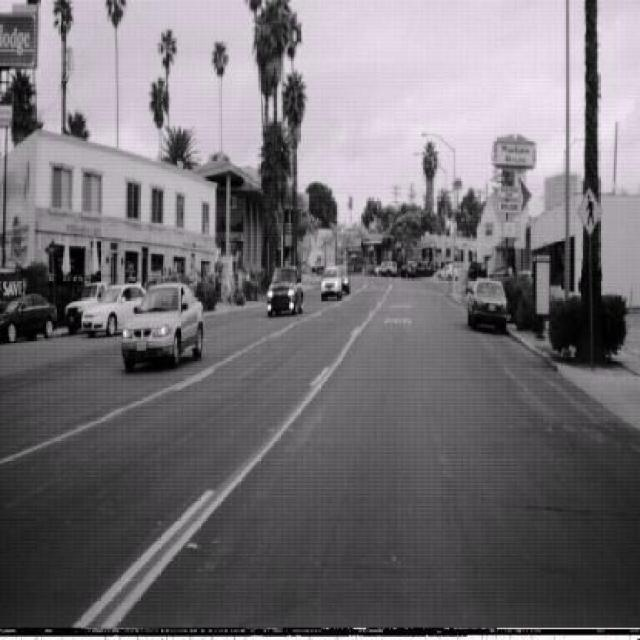pedestrianCrossing: (577, 183, 603, 237)
